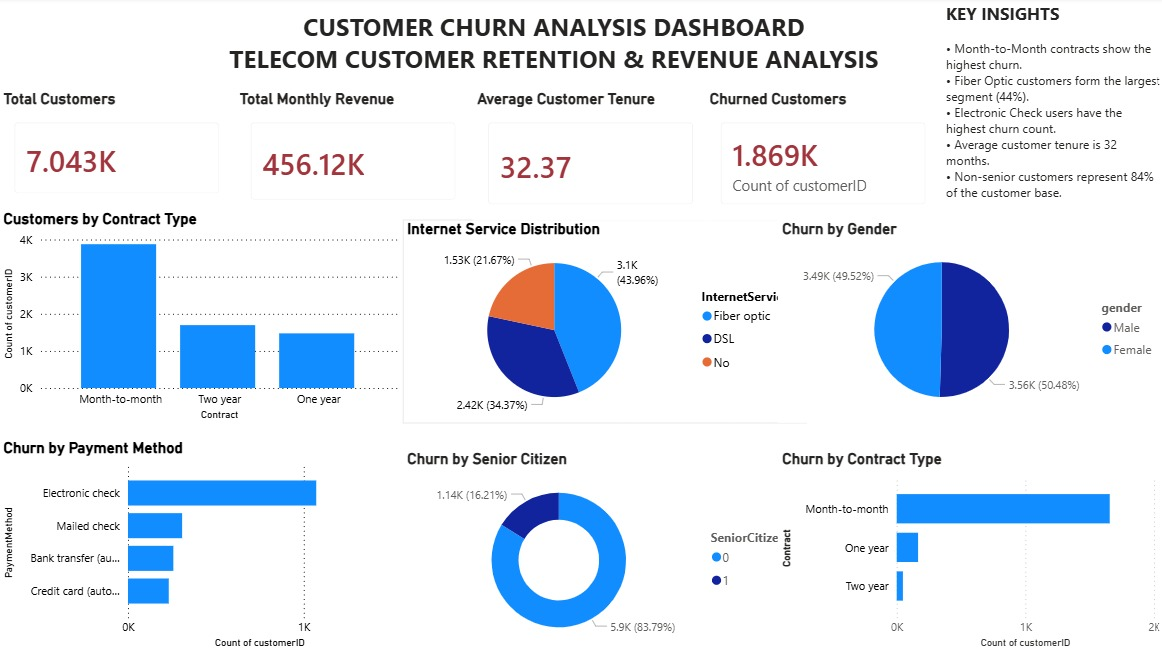

Layout of this report page (visuals, bound fields, positions):
{"tool":"powerbi","page":{"name":"Duplicate of Page 1","canvas":[1280,720],"ordinal":0},"visuals":[{"type":"clusteredColumnChart","title":"Customers by Contract Type","fields":{"Category":["WA_Fn-UseC_-Telco-Customer-Churn.Contract"],"Y":["Count(WA_Fn-UseC_-Telco-Customer-Churn.customerID)"]},"box":[0,233.3,443.2,236],"z":0},{"type":"clusteredBarChart","title":"Churn by Payment Method","fields":{"Category":["WA_Fn-UseC_-Telco-Customer-Churn.PaymentMethod"],"Y":["Count(WA_Fn-UseC_-Telco-Customer-Churn.customerID)"]},"box":[0,484.4,443.2,236],"z":1000},{"type":"pieChart","title":"Internet Service Distribution","fields":{"Category":["WA_Fn-UseC_-Telco-Customer-Churn.InternetService"],"Y":["Count(WA_Fn-UseC_-Telco-Customer-Churn.customerID)"]},"box":[443.2,244.3,443,224],"z":2000},{"type":"cardVisual","title":"Total Customers","fields":{"Data":["Count(WA_Fn-UseC_-Telco-Customer-Churn.customerID)"]},"box":[0,101.5,259.3,131.7],"z":3000},{"type":"cardVisual","title":"Total Monthly Revenue","fields":{"Data":["Sum(WA_Fn-UseC_-Telco-Customer-Churn.MonthlyCharges)"]},"box":[259.3,101.5,259,139],"z":4000},{"type":"cardVisual","title":"Average Customer Tenure","fields":{"Data":["Avg(WA_Fn-UseC_-Telco-Customer-Churn.tenure)"]},"box":[520.1,101.5,259,144],"z":5000},{"type":"cardVisual","title":"Churned Customers","fields":{"Data":["Count(WA_Fn-UseC_-Telco-Customer-Churn.customerID)"]},"box":[775.3,101.5,259,144.1],"z":6000},{"type":"textbox","box":[209.9,9.6,798.6,91.9],"z":7000},{"type":"pieChart","title":"Churn by Gender","fields":{"Category":["WA_Fn-UseC_-Telco-Customer-Churn.gender"],"Y":["CountNonNull(WA_Fn-UseC_-Telco-Customer-Churn.customerID)"]},"box":[854.9,244.3,425.4,223],"z":8000},{"type":"donutChart","title":"Churn by Senior Citizen","fields":{"Category":["WA_Fn-UseC_-Telco-Customer-Churn.SeniorCitizen"],"Y":["CountNonNull(WA_Fn-UseC_-Telco-Customer-Churn.customerID)"]},"box":[443.2,496.7,443,224],"z":9000},{"type":"clusteredBarChart","title":"Churn by Contract Type","fields":{"Category":["WA_Fn-UseC_-Telco-Customer-Churn.Contract"],"Y":["CountNonNull(WA_Fn-UseC_-Telco-Customer-Churn.customerID)"]},"box":[854.9,496.7,425.4,223.7],"z":10000},{"type":"textbox","box":[1034.7,0,245.6,233.3],"z":10001}]}

Visuals, with their boxes in screenshot pixels (x1, y1, x2, y2), scaled from the page's 1280x720 canvas onto the 1162x650 screenshot:
"Customers by Contract Type" clusteredColumnChart: <bbox>0, 211, 402, 424</bbox>
"Churn by Payment Method" clusteredBarChart: <bbox>0, 437, 402, 649</bbox>
"Internet Service Distribution" pieChart: <bbox>402, 221, 805, 423</bbox>
"Total Customers" cardVisual: <bbox>0, 92, 235, 211</bbox>
"Total Monthly Revenue" cardVisual: <bbox>235, 92, 471, 217</bbox>
"Average Customer Tenure" cardVisual: <bbox>472, 92, 707, 222</bbox>
"Churned Customers" cardVisual: <bbox>704, 92, 939, 222</bbox>
textbox: <bbox>191, 9, 916, 92</bbox>
"Churn by Gender" pieChart: <bbox>776, 221, 1161, 422</bbox>
"Churn by Senior Citizen" donutChart: <bbox>402, 448, 805, 649</bbox>
"Churn by Contract Type" clusteredBarChart: <bbox>776, 448, 1161, 649</bbox>
textbox: <bbox>939, 0, 1161, 211</bbox>
